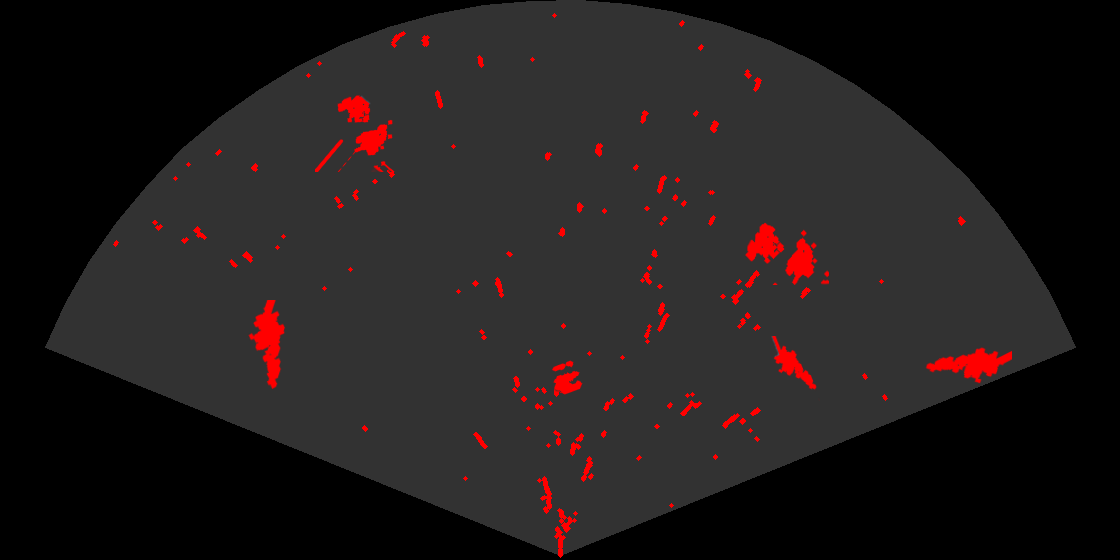ball: (550, 359, 584, 396)
cage: (315, 94, 396, 172), (744, 221, 829, 285)
frogman: (247, 300, 287, 391), (924, 346, 1012, 385), (771, 336, 820, 401)
